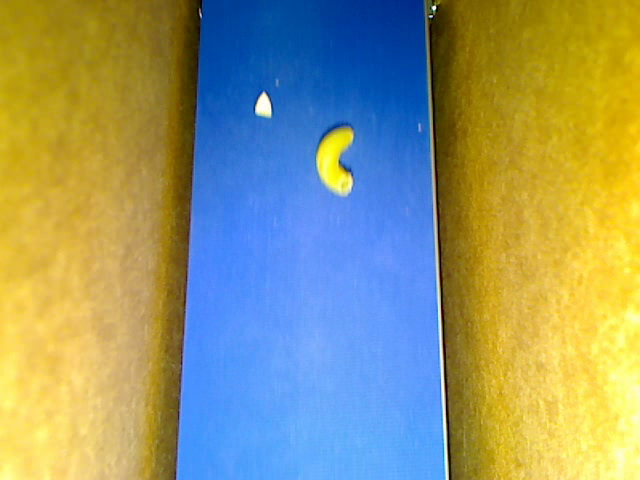elbow: (315, 125, 353, 194)
